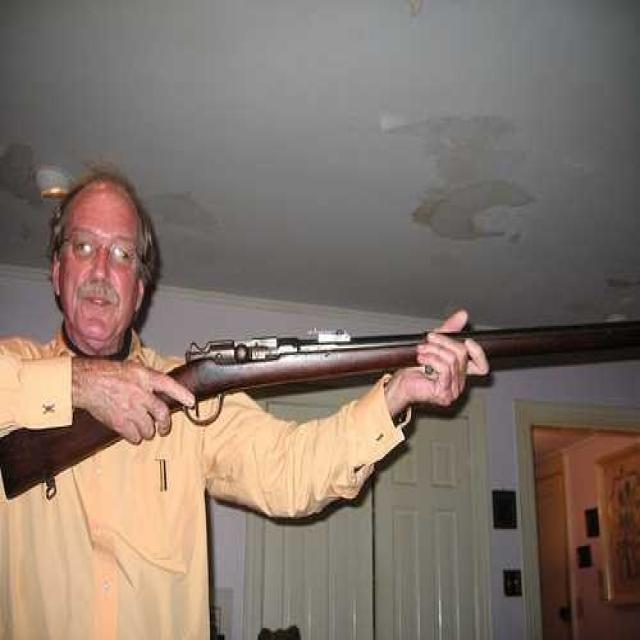heavyweapon: (1, 272, 640, 515)
